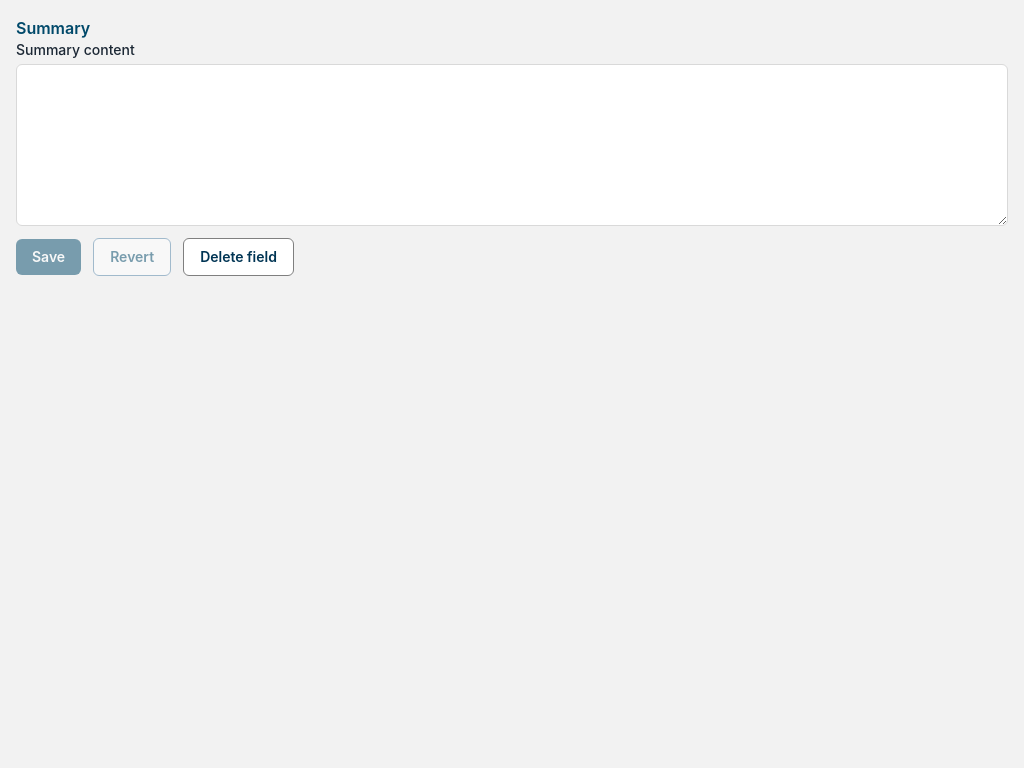
Test: ReportFieldCard › does not delete when the confirmation is cancelled
Click the button "Delete field". click: (238, 257)
box: top-left (183, 238), bottom-right (294, 276)
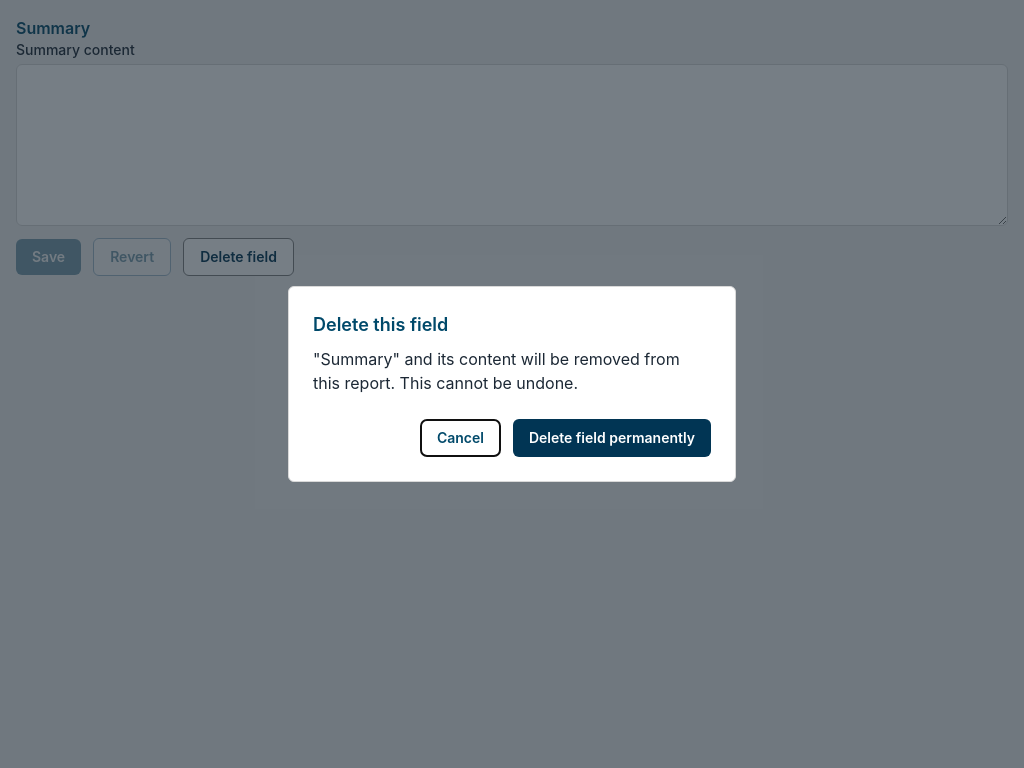
Click the button "Cancel". click: (460, 438)
box: top-left (420, 419), bottom-right (501, 457)
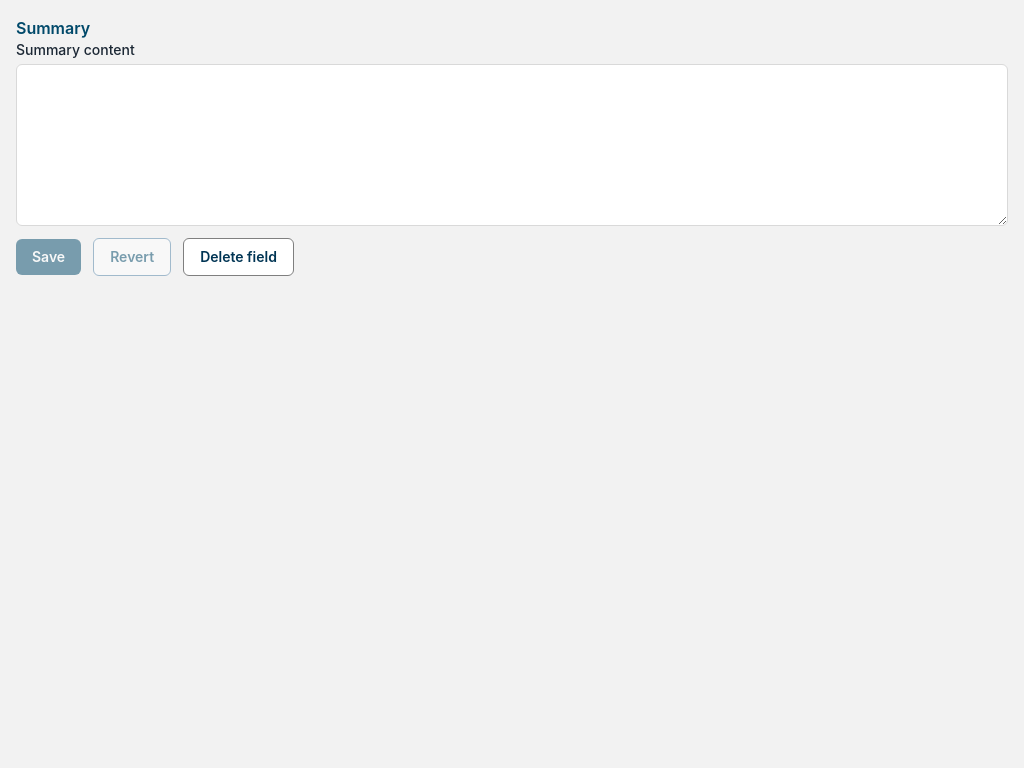
Now the dialog is gone
